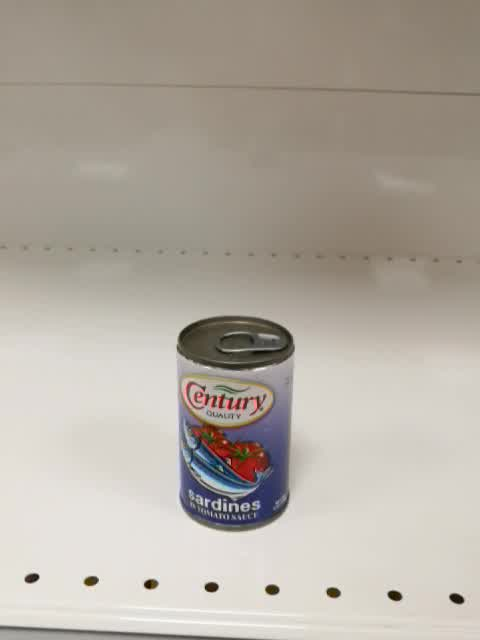sardine: (175, 312, 299, 536)
